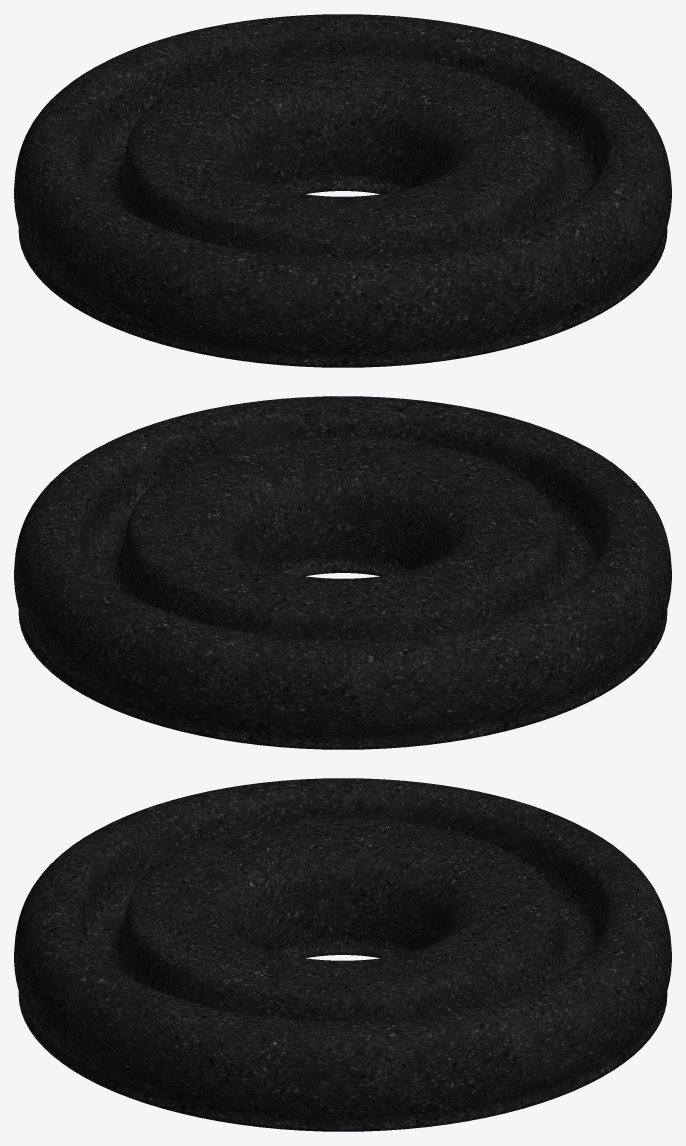
The model's file is tzaar-tzaar-black.glb.
3 views of the same model, one above another, from view 1: azimuth 30°, elevation 25°; view 2: azimuth 150°, elevation 25°; view 3: azimuth 270°, elevation 25° (orthographic).
Parts seen in each view (by area): view 1: tzaar-tzaar-black; view 2: tzaar-tzaar-black; view 3: tzaar-tzaar-black.
Boxes of the visible parts, x1,y1,x2,y2 form: tzaar-tzaar-black: (14,14,671,367); tzaar-tzaar-black: (14,396,671,749); tzaar-tzaar-black: (14,778,671,1131).
Bounding box in the file's own units: 0.028 × 0.00435 × 0.028.
Materials: 1 (1 with a texture image).
